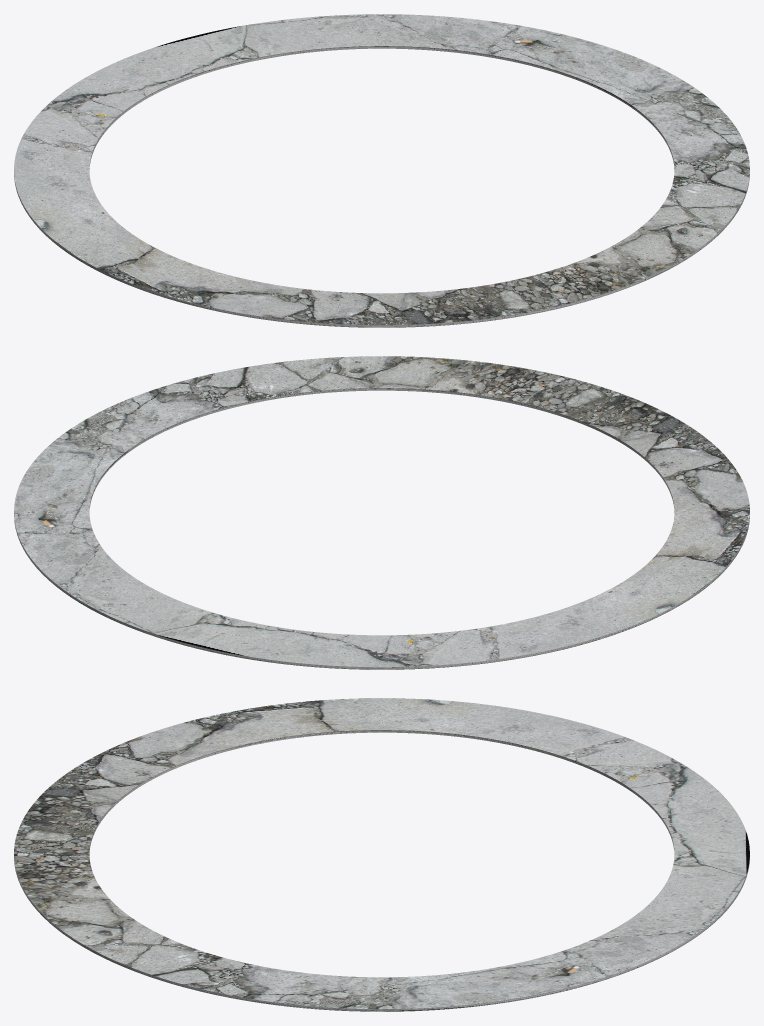
3 renders of one model, top to bottom at view 1: azimuth 30°, elevation 25°; view 2: azimuth 150°, elevation 25°; view 3: azimuth 270°, elevation 25°, orthographic.
Visible parts, largest first — view 1: circle_04; view 2: circle_04; view 3: circle_04.
Part boxes in pixels (x1,y1,x2,y2): circle_04: (14,14,749,327); circle_04: (14,356,749,669); circle_04: (14,698,749,1011).
Size of the model in its own units: 15599 by 60.2 by 15599.
